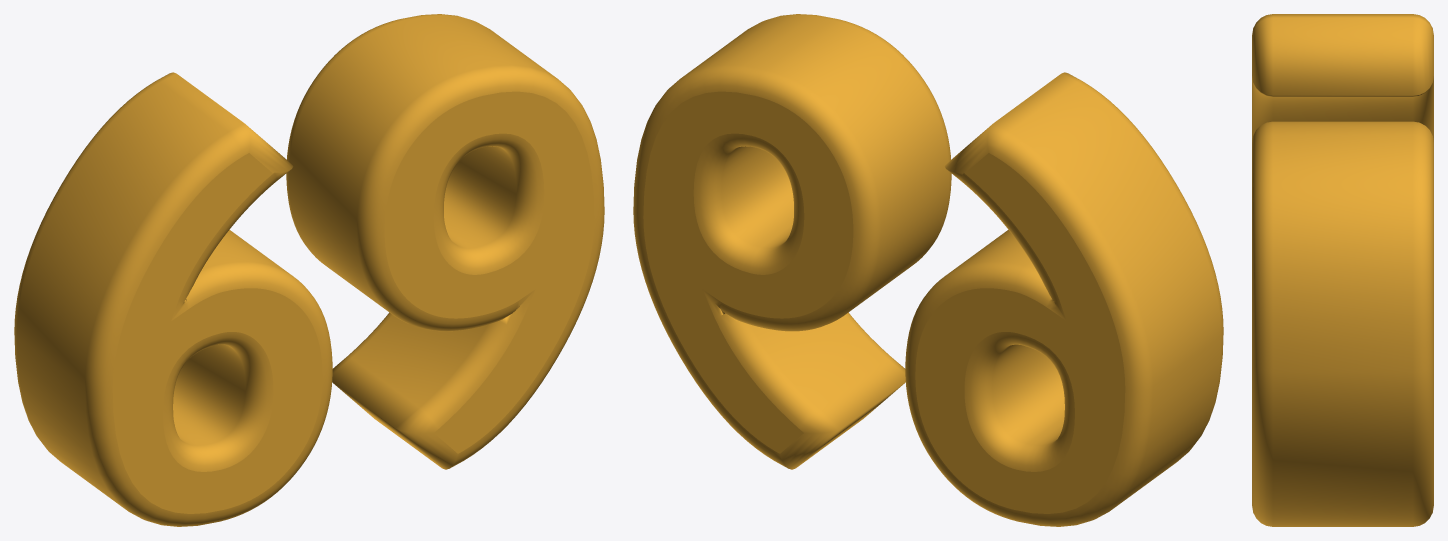
The picture shows the model from 3 angles, left to right: view 1: azimuth 30°, elevation 25°; view 2: azimuth 150°, elevation 25°; view 3: azimuth 270°, elevation 25°; orthographic projection. The views are drawn at different scales.
Visible parts, largest first — view 1: Text; view 2: Text; view 3: Text.
Boxes of the visible parts, x1,y1,x2,y2 form: Text: (14, 14, 604, 526); Text: (633, 14, 1223, 526); Text: (1252, 14, 1433, 526).
Bounding box in the file's own units: 87.95 × 63.97 × 26.
